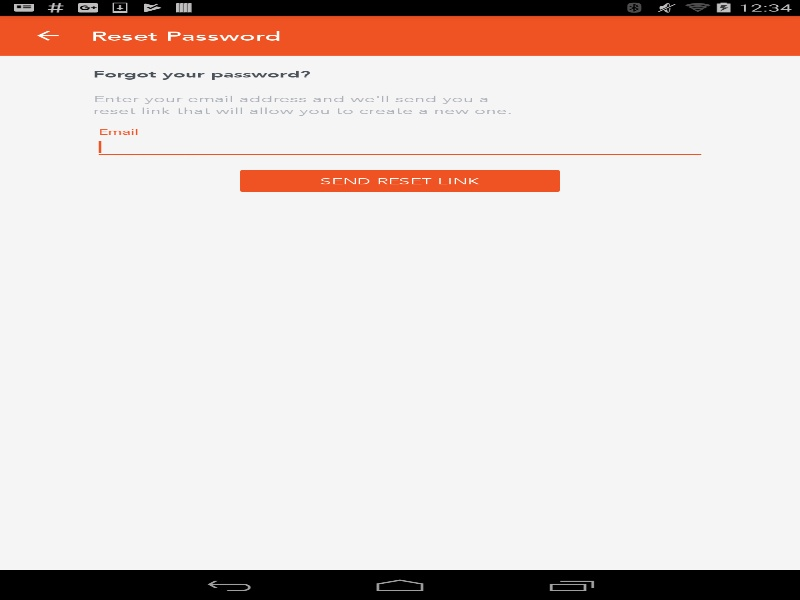Button: (240, 169, 560, 192), (10, 18, 85, 53)
Input: (93, 134, 706, 159)
